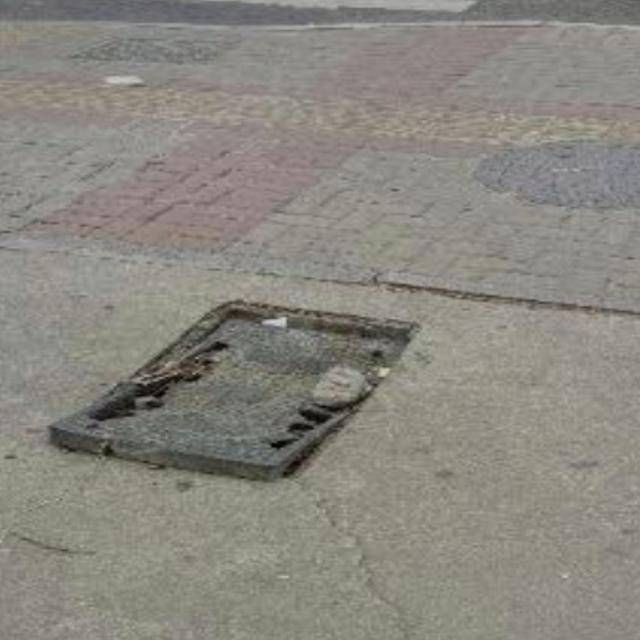broke: (45, 299, 422, 479)
good: (473, 137, 640, 209)
